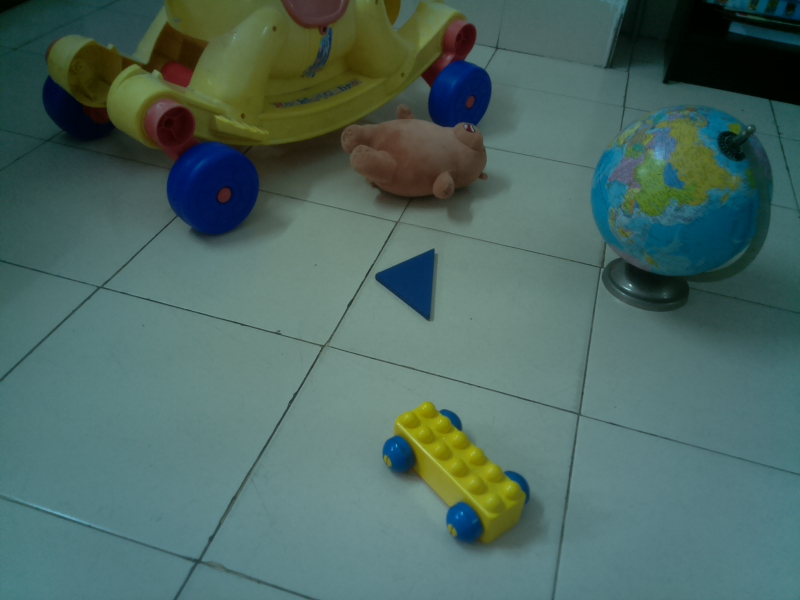Triangle: (373, 246, 439, 323)
toy_Car: (378, 398, 534, 552)
